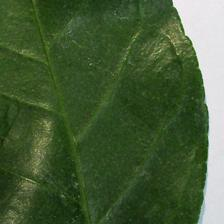healthy: (1, 2, 209, 223)
